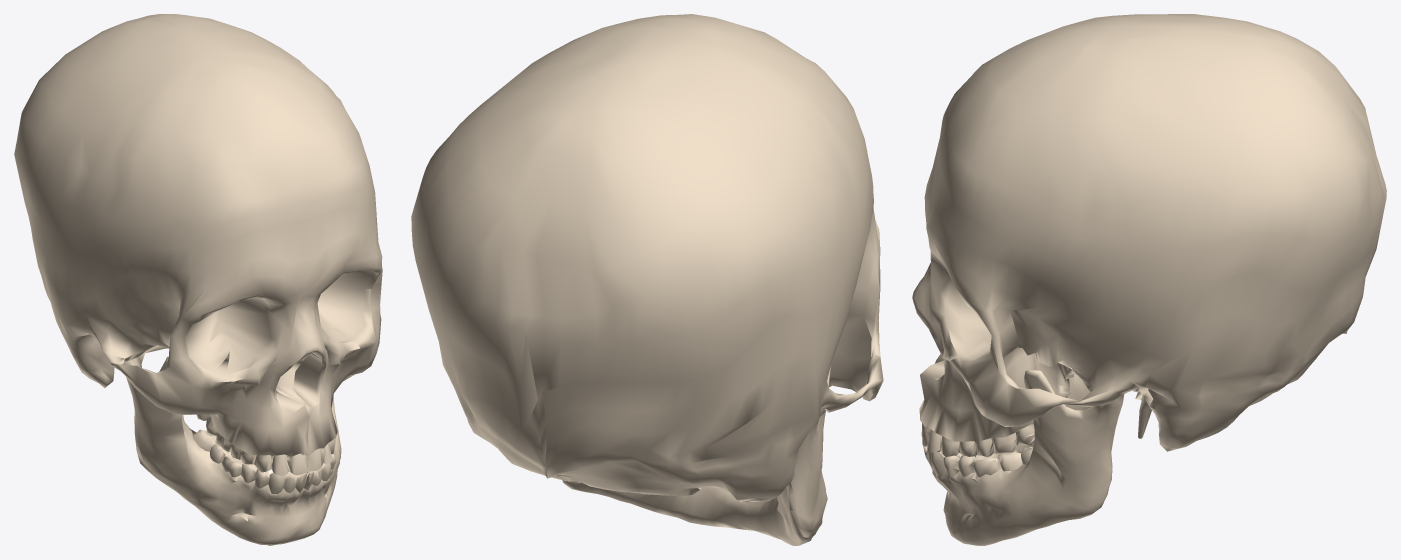
The model's file is skull.obj.
The picture shows the model from 3 angles, left to right: view 1: azimuth 30°, elevation 25°; view 2: azimuth 150°, elevation 25°; view 3: azimuth 270°, elevation 25°; orthographic projection. The views are drawn at different scales.
Parts seen in each view (by area): view 1: skull; view 2: skull; view 3: skull.
Part boxes in pixels (bbox=[...]): skull: bbox=[14, 14, 382, 545]; skull: bbox=[411, 14, 883, 545]; skull: bbox=[912, 14, 1386, 545].
Bounding box in the file's own units: 1.24 × 1.83 × 1.57.
